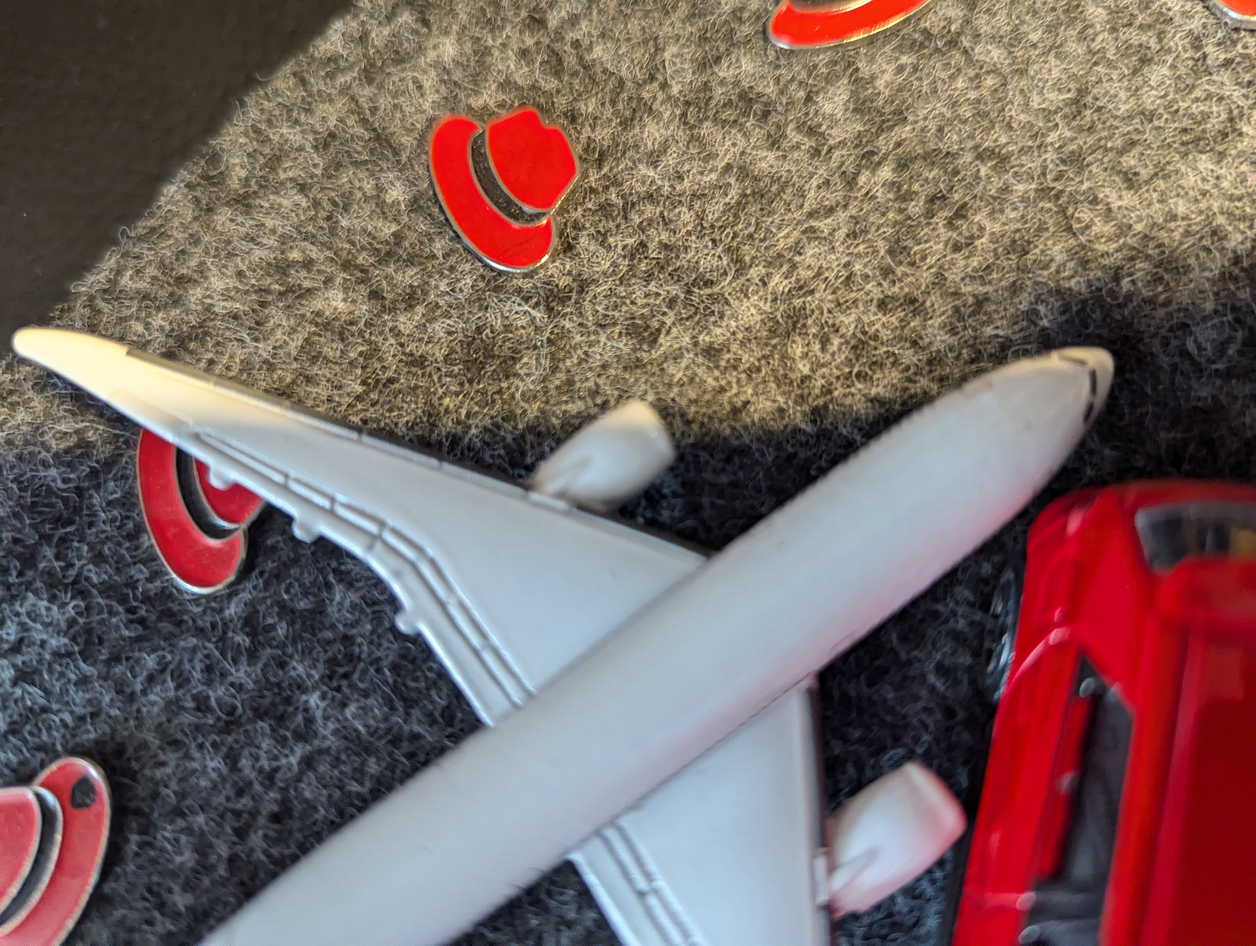Airplane: (0, 262, 1178, 946)
Red-Hat: (408, 75, 617, 310), (89, 383, 276, 628), (0, 721, 152, 946)
Scratch: (58, 771, 119, 821)
